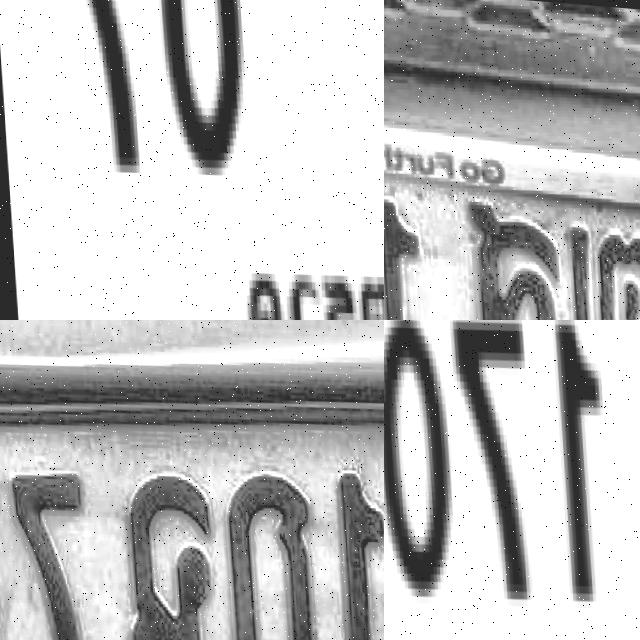license-plate: (0, 0, 384, 320), (0, 320, 384, 640), (384, 320, 640, 640), (384, 38, 640, 320)
